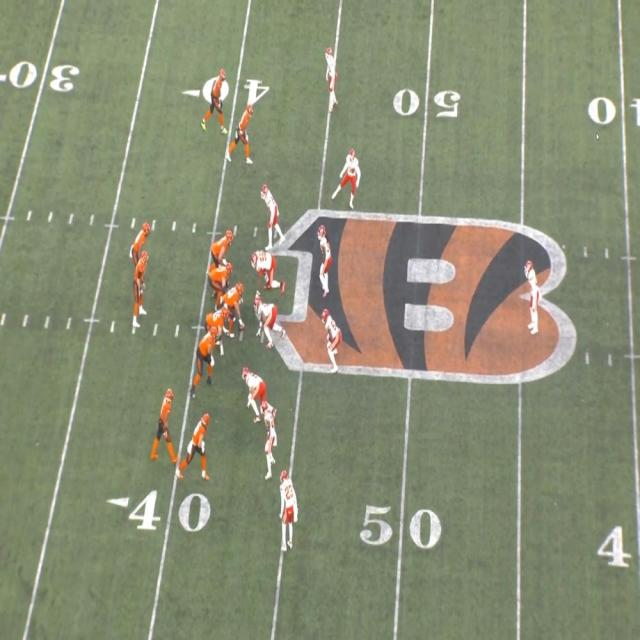center: (225, 284, 249, 322)
db: (278, 470, 299, 546), (523, 258, 545, 330), (258, 401, 278, 478), (340, 151, 362, 207), (322, 46, 338, 104)
lb: (317, 230, 335, 294), (324, 309, 344, 360)
qb: (133, 256, 149, 325)
skill: (189, 410, 212, 474), (157, 384, 177, 453), (207, 68, 230, 116), (234, 110, 254, 164), (134, 225, 150, 258)
